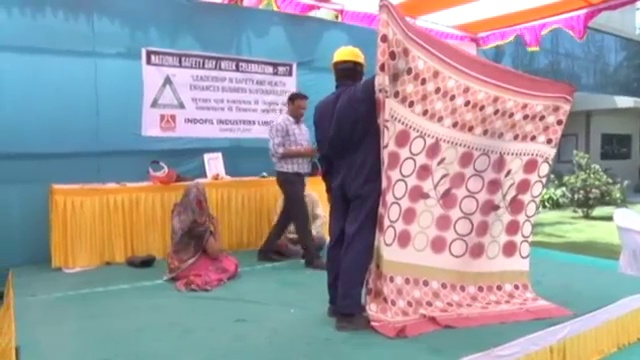helmet: (330, 44, 366, 66)
helmet_off: (181, 186, 209, 211), (286, 93, 307, 117)
helmet_on: (330, 43, 367, 88)
person: (313, 43, 383, 332), (266, 93, 319, 269), (166, 182, 236, 290)
